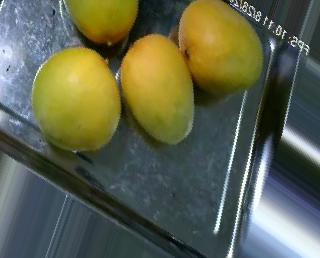Mango: (32, 47, 122, 151), (174, 1, 265, 97), (121, 33, 197, 145), (59, 0, 139, 42)
